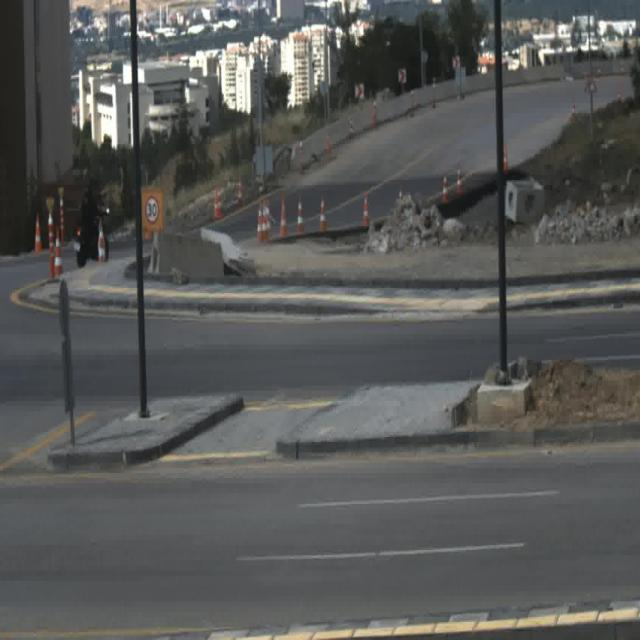Motorcycle: (74, 178, 110, 266)
